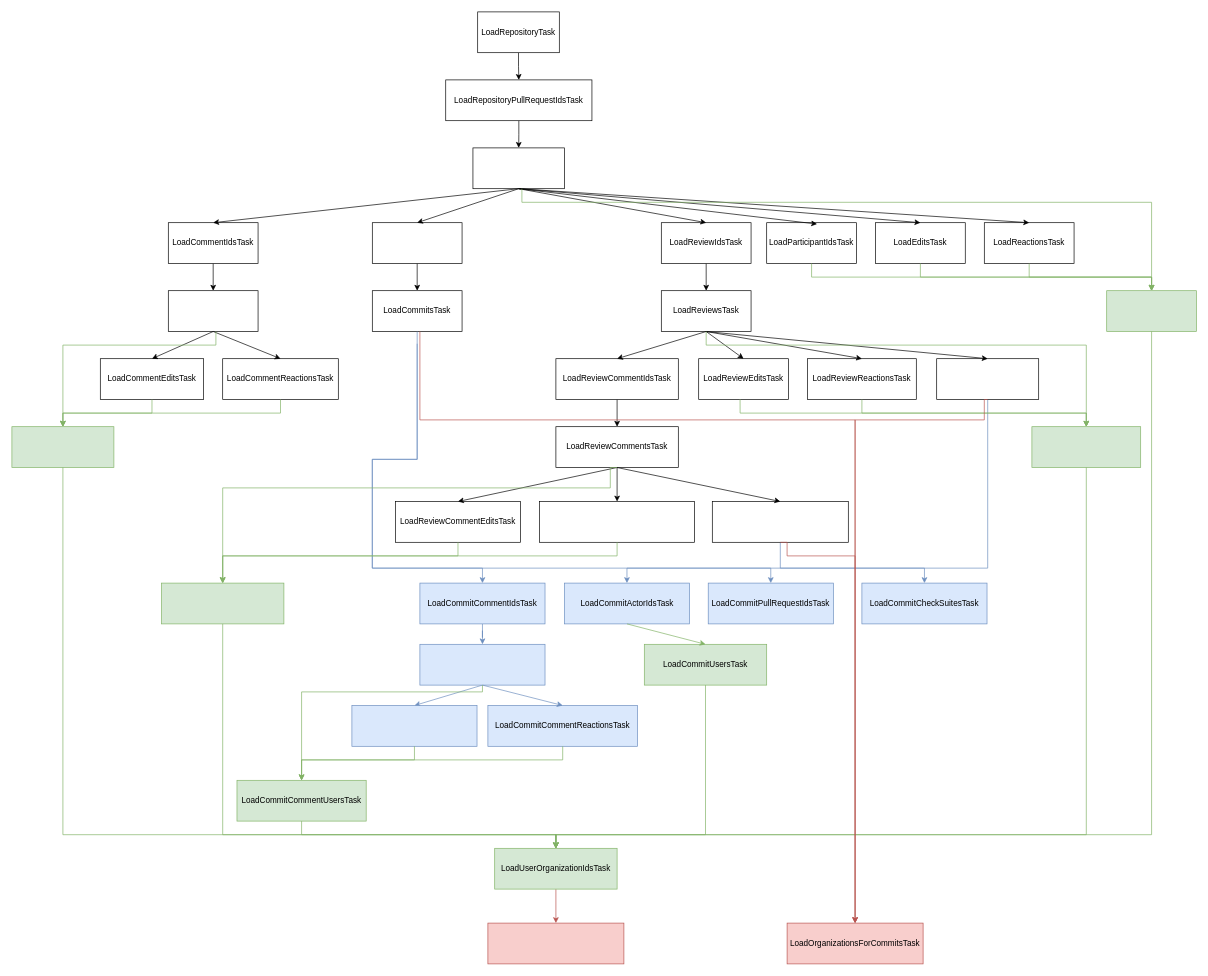
Some shapes in this 1208 by 976 pixel diagram are drawn without their labels. Each missing label, with the centre of its shape:
LoadCommentsTask: the point at 213,311
LoadCommentUsersTask: the point at 62,447
LoadCommitCommentEditsTask: the point at 414,725
LoadCommitCommentsTask: the point at 482,664
LoadCommitIdsTask: the point at 417,243
LoadOrganizationsForUsersTask: the point at 555,943
LoadPullRequestsTask: the point at 518,168
LoadReviewCommentCommitsTask: the point at 780,521
LoadReviewCommentReactionsTask: the point at 617,521
LoadReviewCommentUsersTask: the point at 222,603
LoadReviewCommitsTask: the point at 987,379
LoadReviewUsersTask: the point at 1086,447
LoadUsersTask: the point at 1151,311
